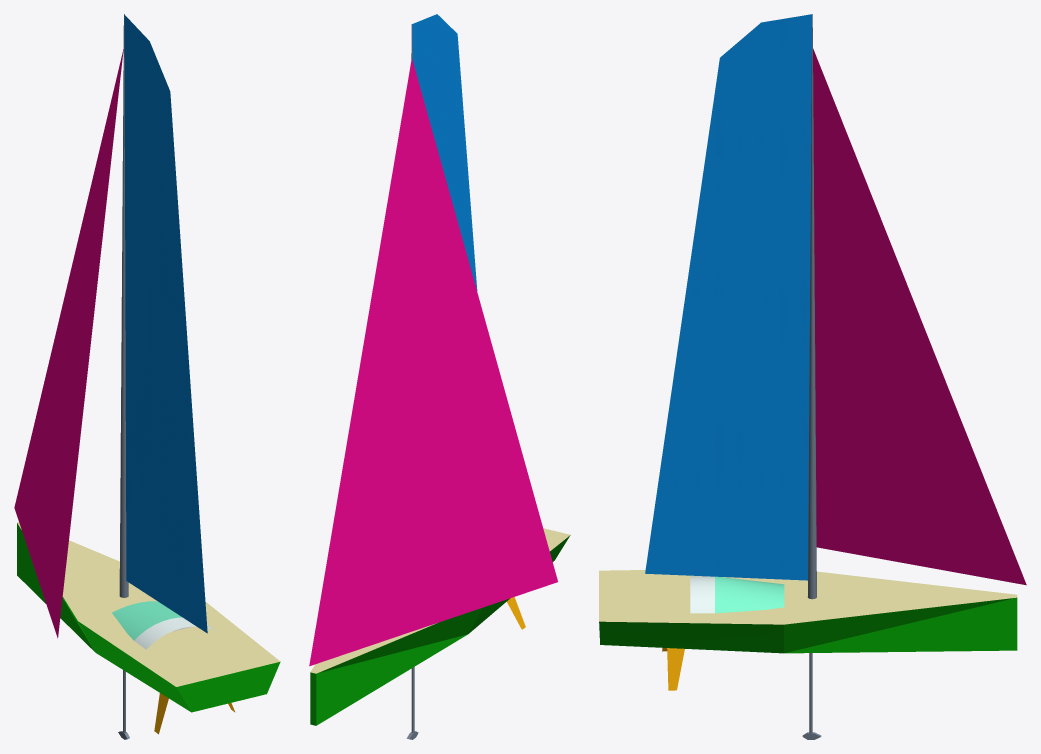
File: RKN_CZ.dae
3 views of the same model, side by side, from view 1: azimuth 30°, elevation 25°; view 2: azimuth 150°, elevation 25°; view 3: azimuth 270°, elevation 25° (orthographic).
Parts seen in each view (by area): view 1: Model; view 2: Model; view 3: Model.
Boxes of the visible parts, x1=… form: Model: x1=14, y1=14, x2=280, y2=739; Model: x1=309, y1=14, x2=570, y2=739; Model: x1=599, y1=14, x2=1026, y2=739.
Bounding box in the file's own units: 81309 × 184152 × 344489.
